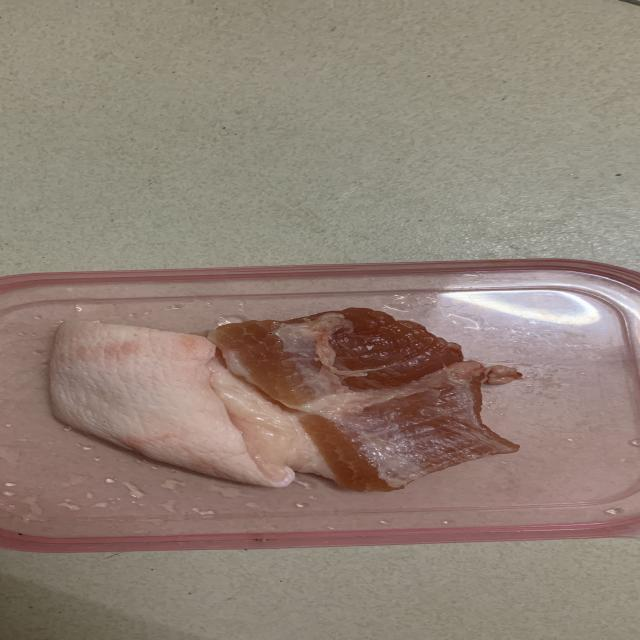chicken: (49, 311, 511, 493)
